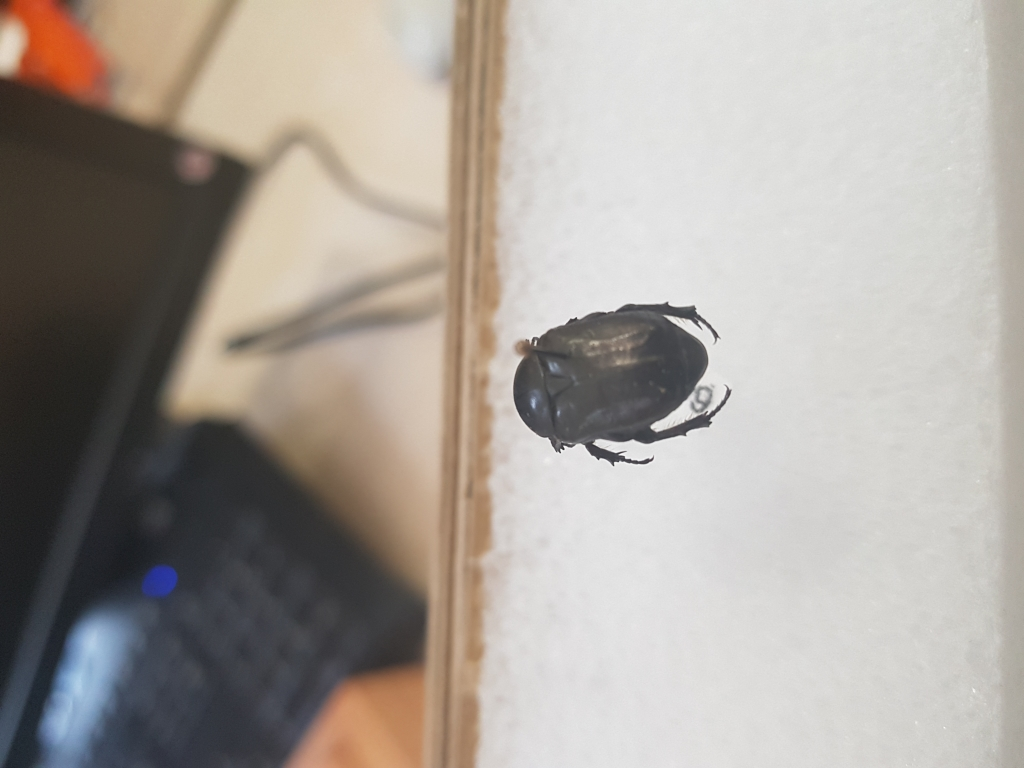Protaetia_vidua: (516, 288, 723, 473)
